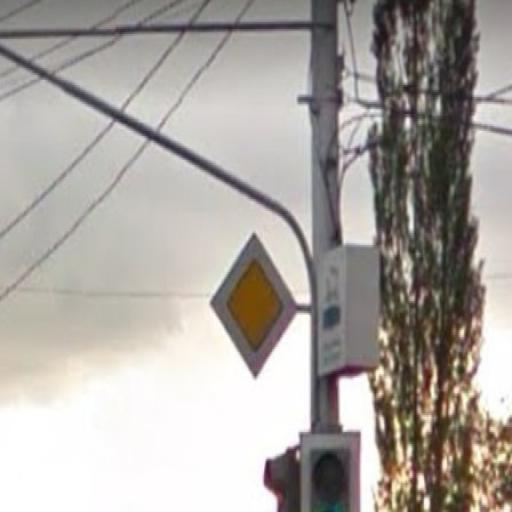traffic_sign: (208, 231, 301, 384)
